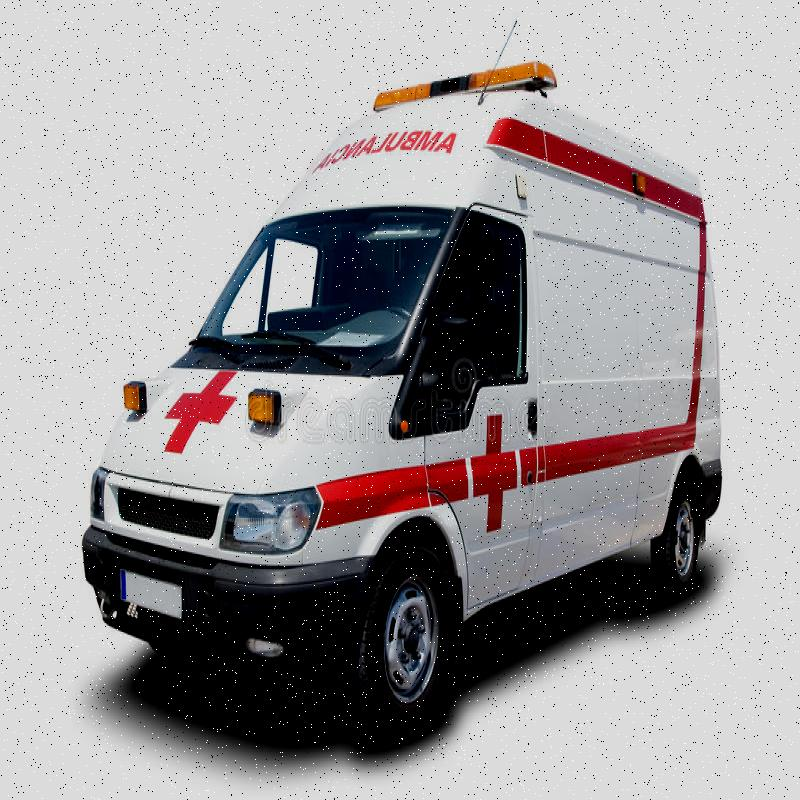AmbulanceSiren: (363, 54, 577, 115)
ambulance: (74, 41, 730, 734)
